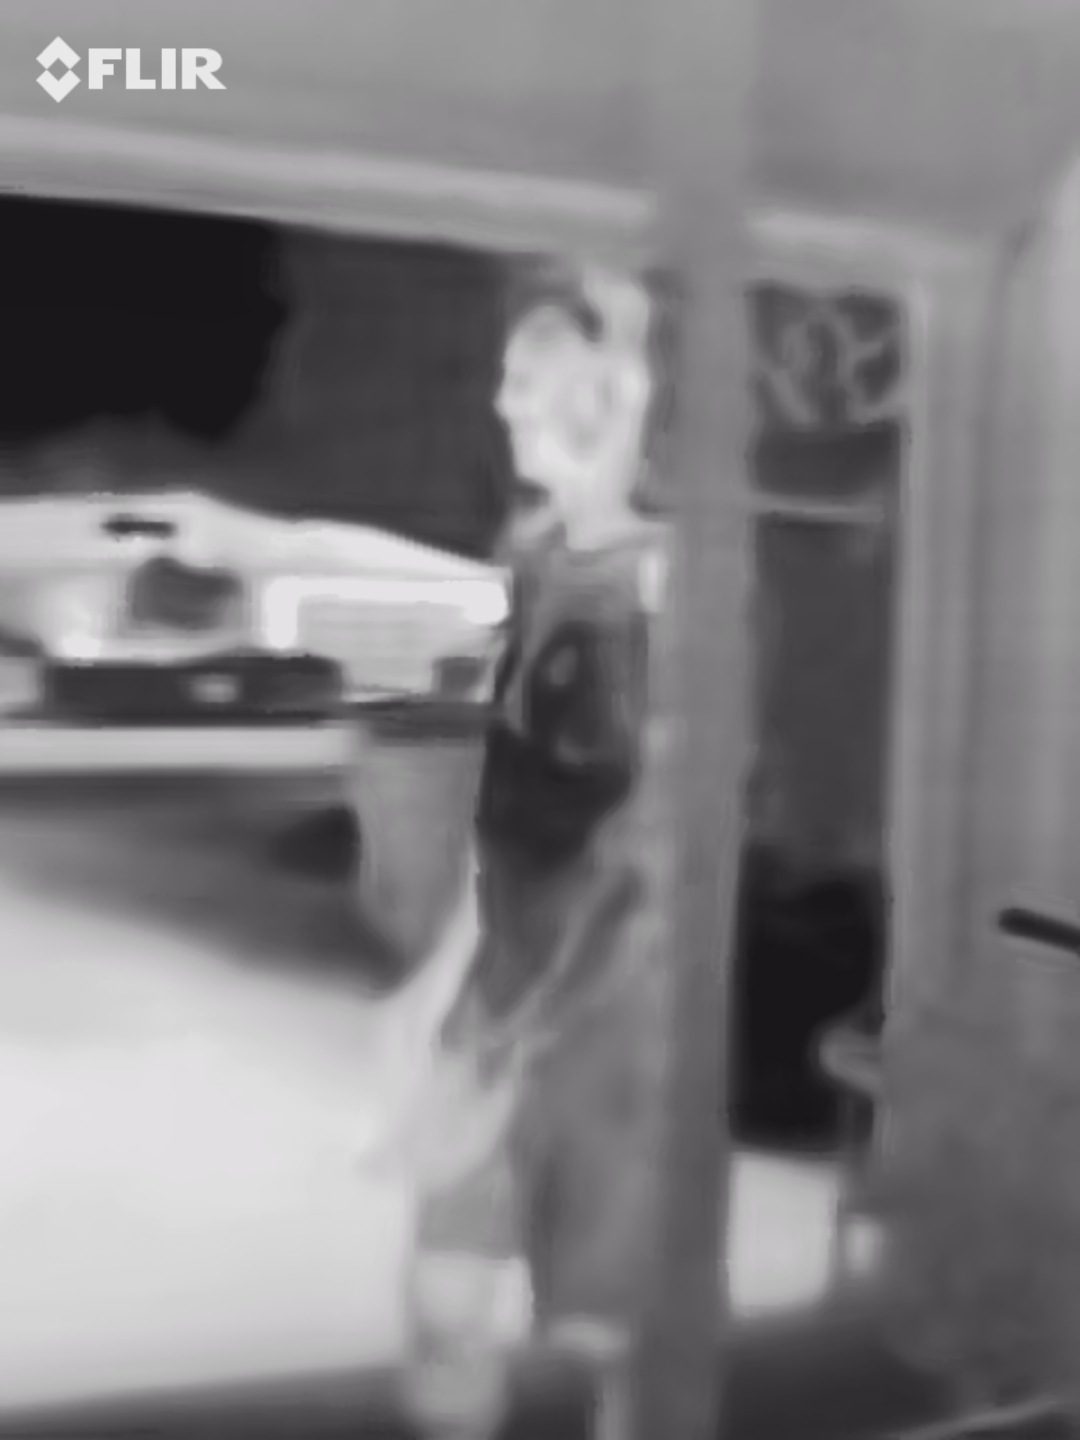head: (494, 257, 666, 519)
